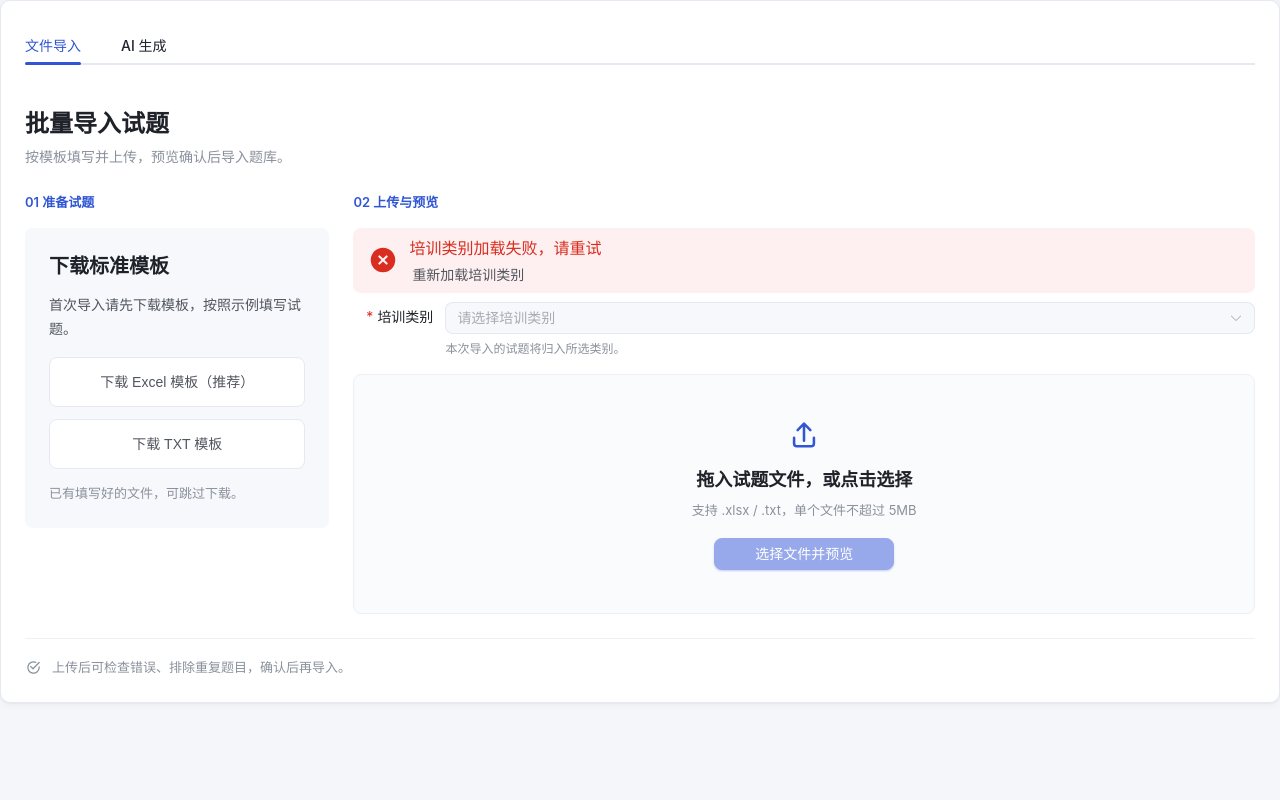
guided question import › blocks incomplete category options after a later page fails and exposes a retry
Expected: the element showing "拖入试题文件，或点击选择 支持 .xlsx / .txt，单个文件不超过 5MB 选择文件并预览" is disabled, [353,374,1255,614]
Click the button "重新加载培训类别" at (468, 275), box [409,265,527,285]
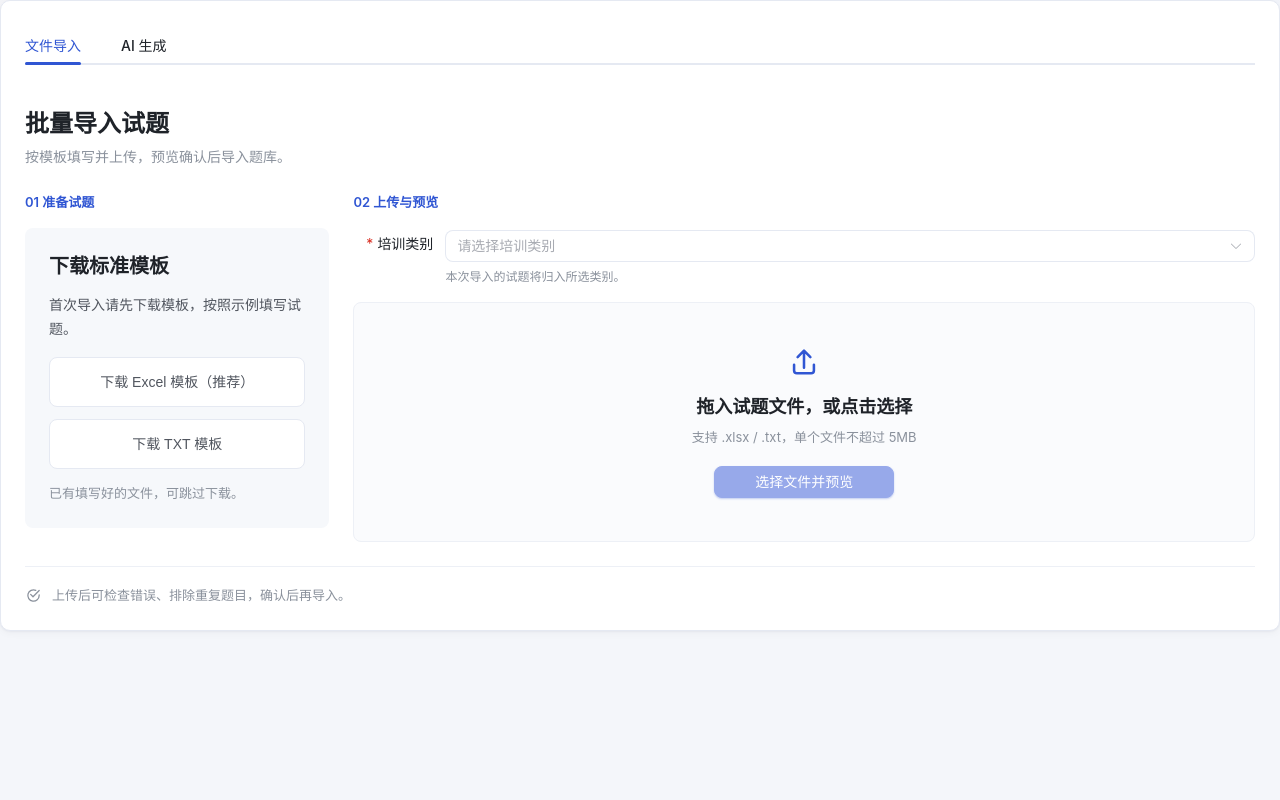
Now the text "培训类别加载失败，请重试" is gone
